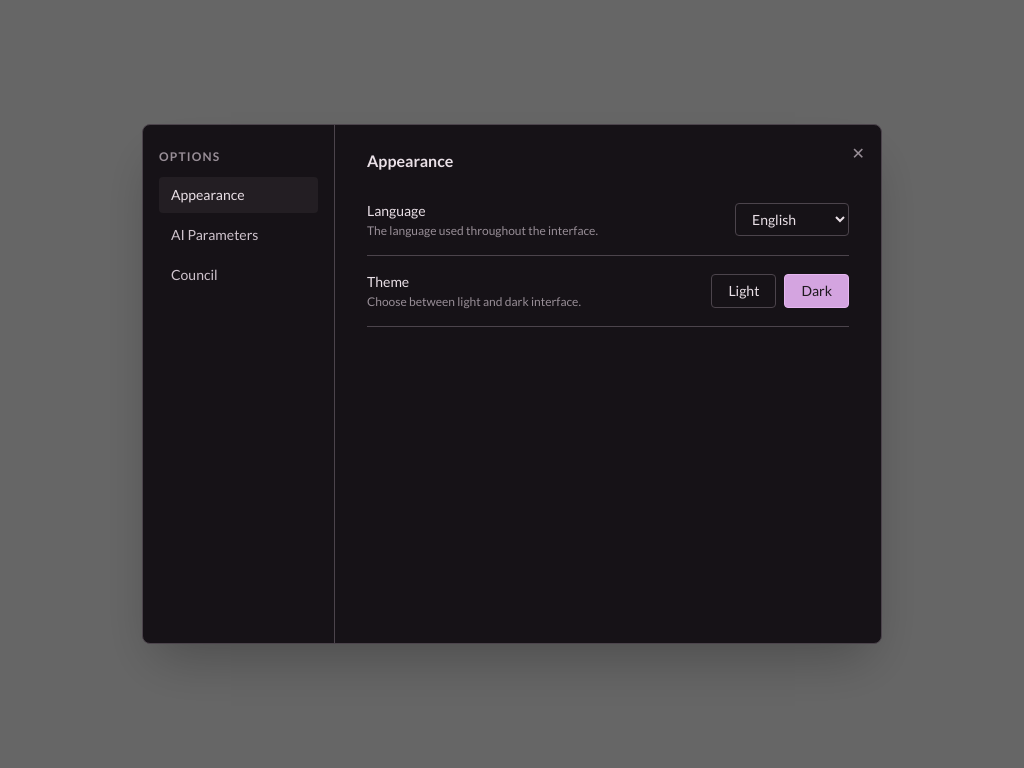
Test: SettingsModal › navigation › shows Council content when Council nav item is clicked
What coordinates should you click on to do the following:
click the button "council"
I would click on:
 (238, 275)
Its box is x1=159 y1=257 x2=318 y2=293.
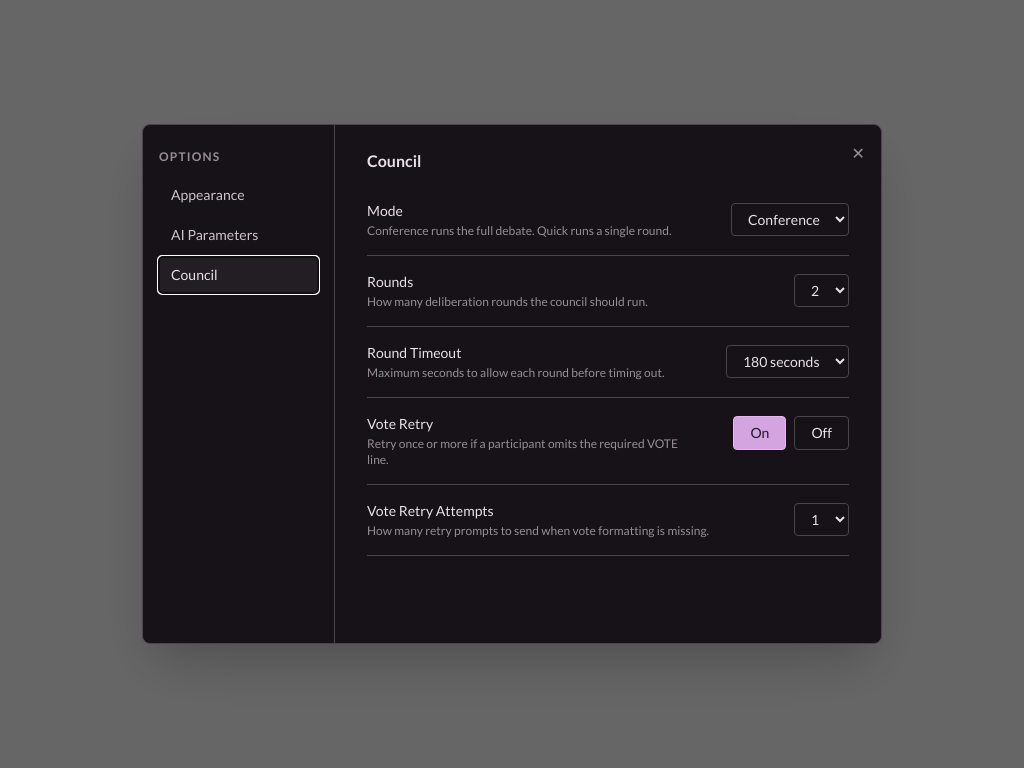
Expected: the text "Mode" is shown, x1=367 y1=202 x2=403 y2=219
Expected: the dropdown labelled "Rounds" is shown, x1=794 y1=274 x2=849 y2=307
